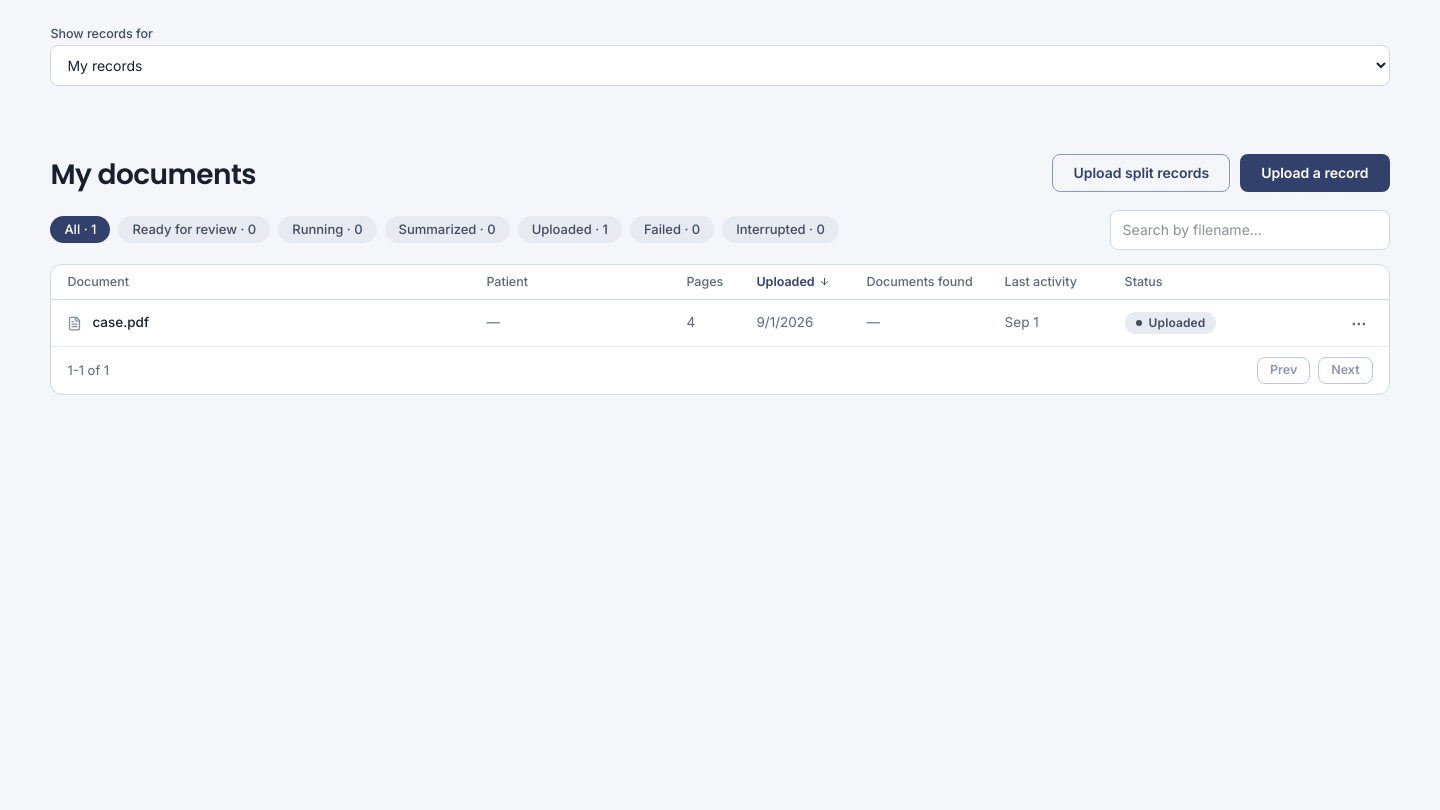
Test: DocumentsView for an admin › offers Assign to an admin, and opens it on the record picked
Select "Brian" in the dropdown labelled "Show records for". click: (720, 65)
box: x1=50 y1=44 x2=1390 y2=86
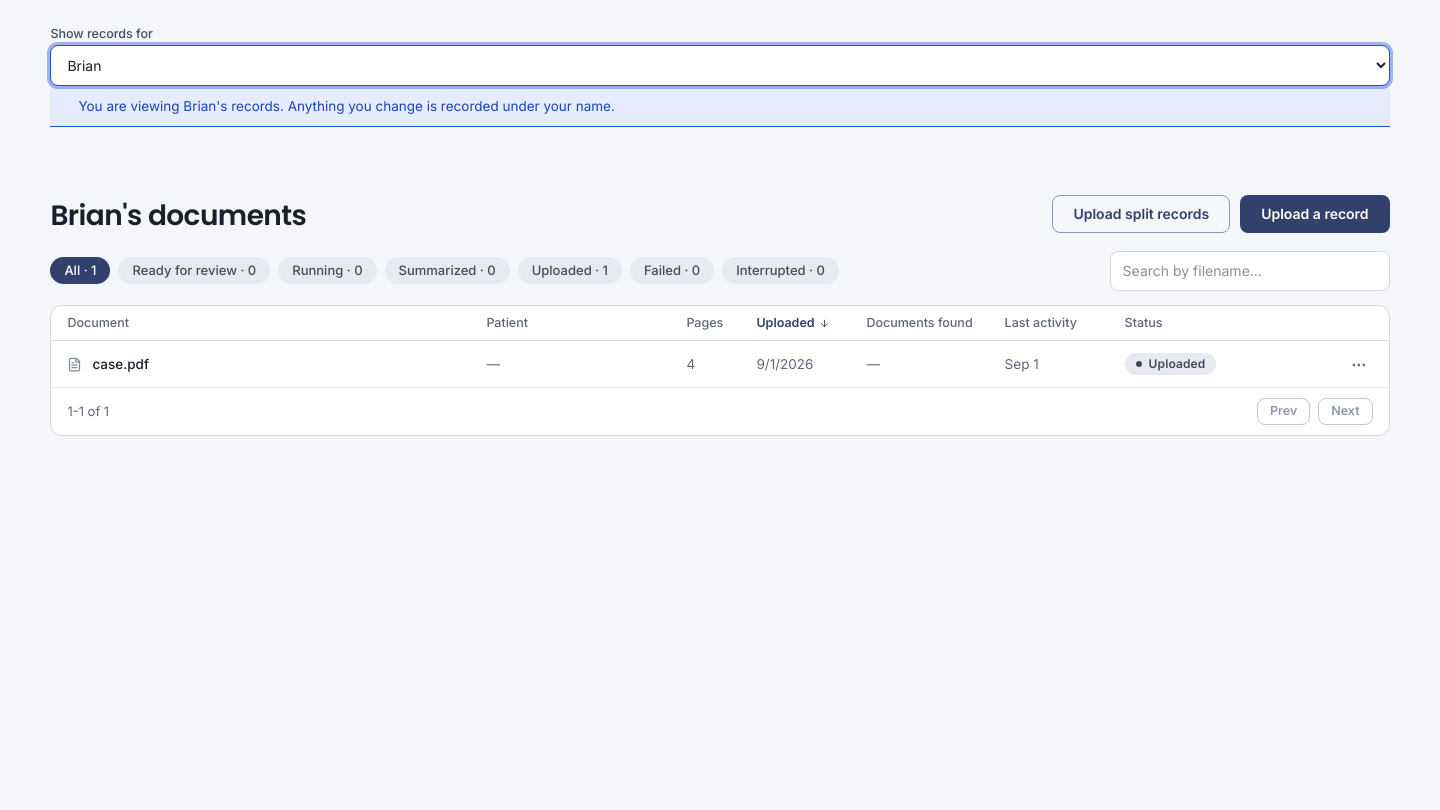
Click the button named "Actions". click: (1359, 364)
box: x1=1345 y1=350 x2=1373 y2=378
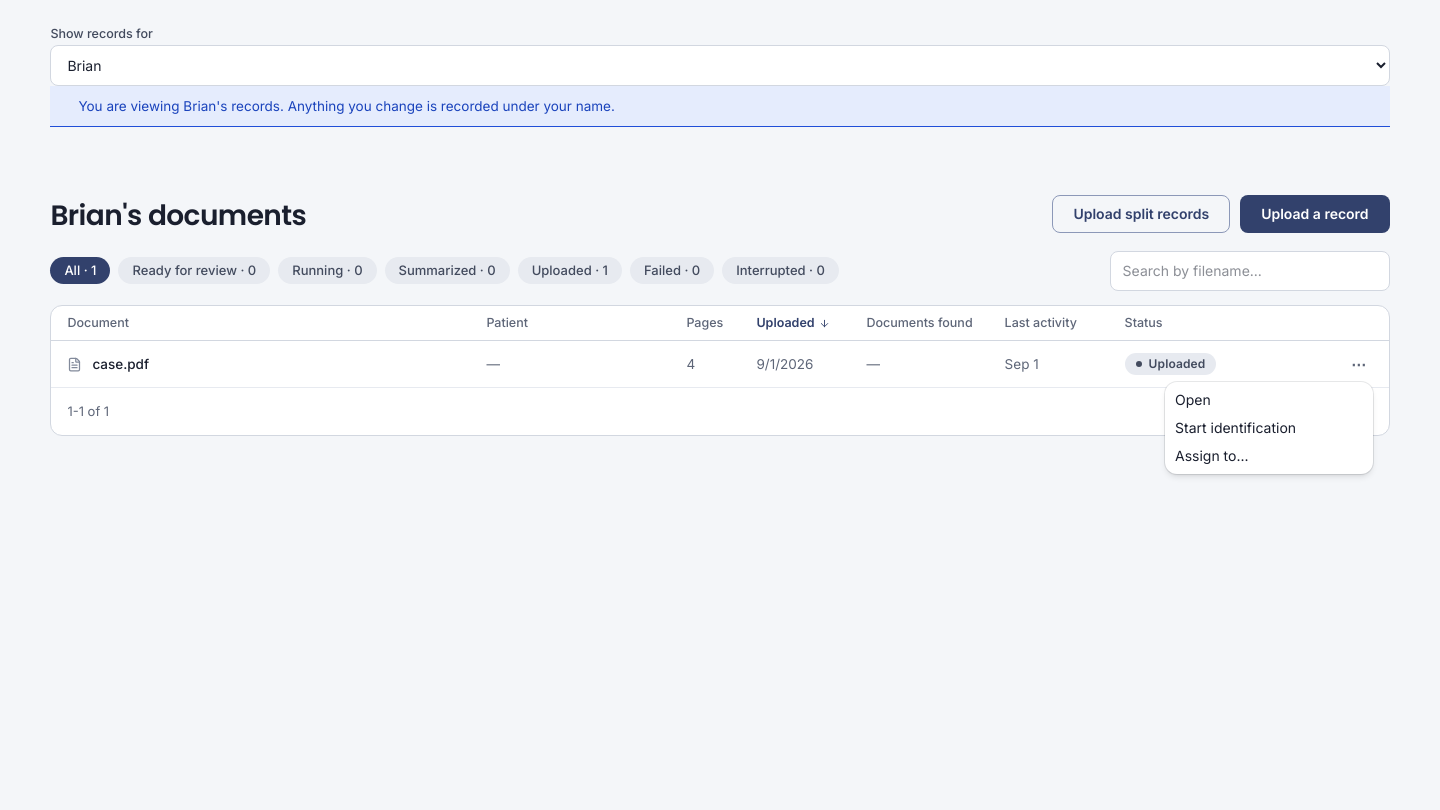
Click the menu item "Assign to...". click: (1212, 456)
box: x1=1175 y1=447 x2=1249 y2=464
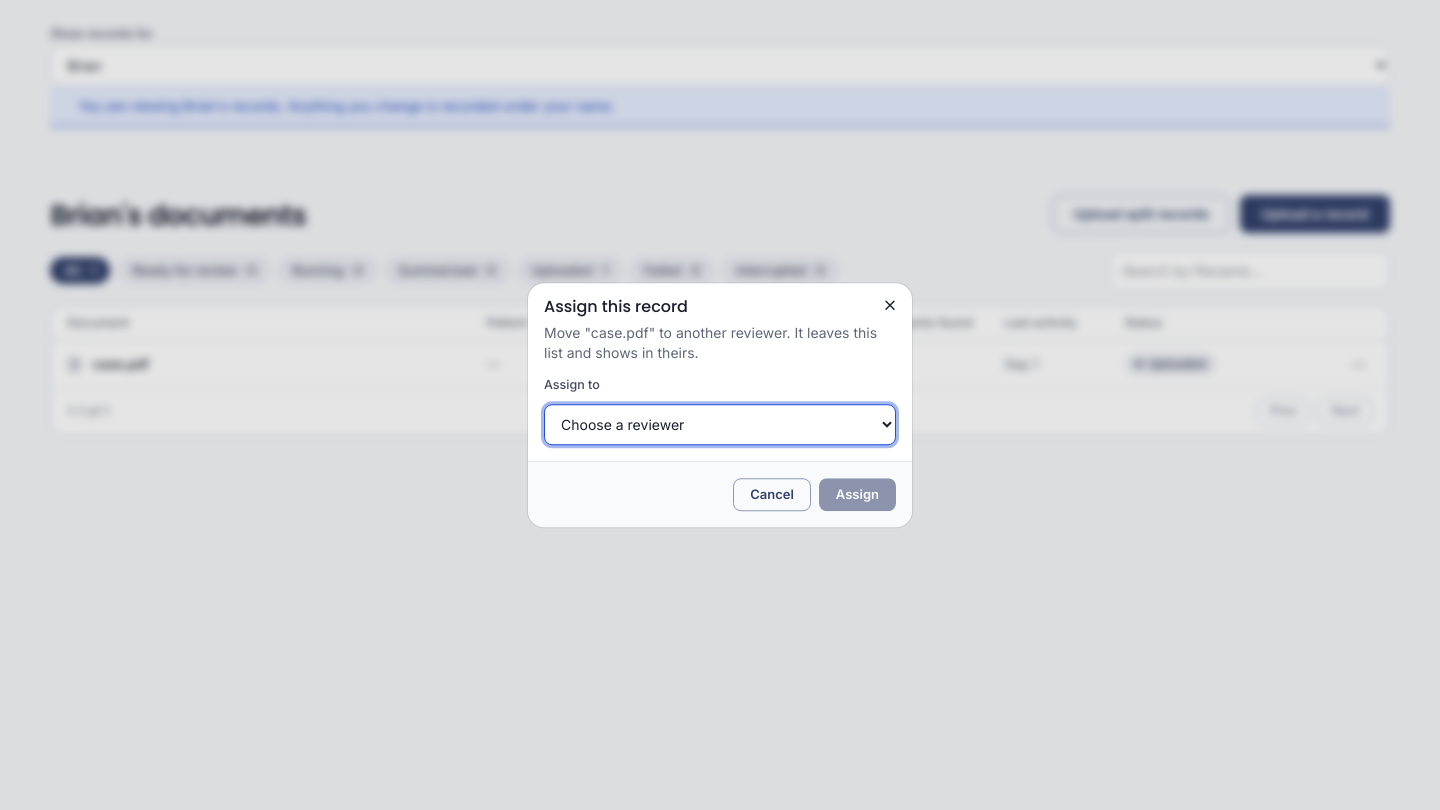
Expected: the heading "Assign this record" is shown, x1=544 y1=295 x2=688 y2=318
